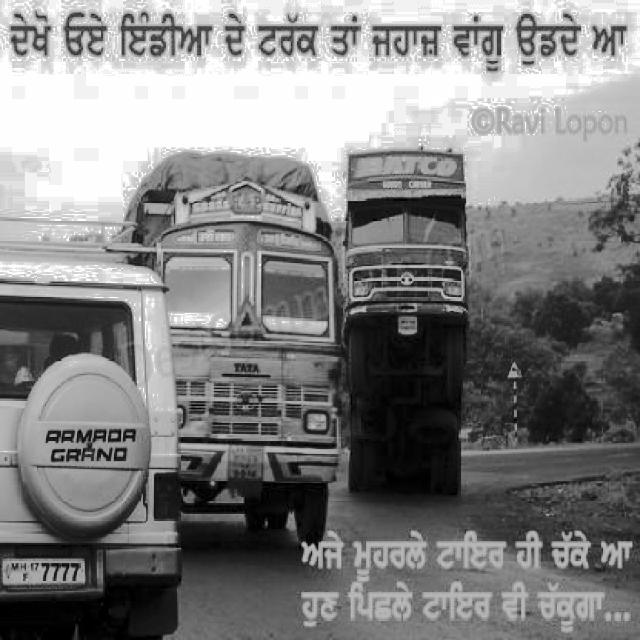HCV: (125, 154, 329, 505), (346, 130, 478, 336)
